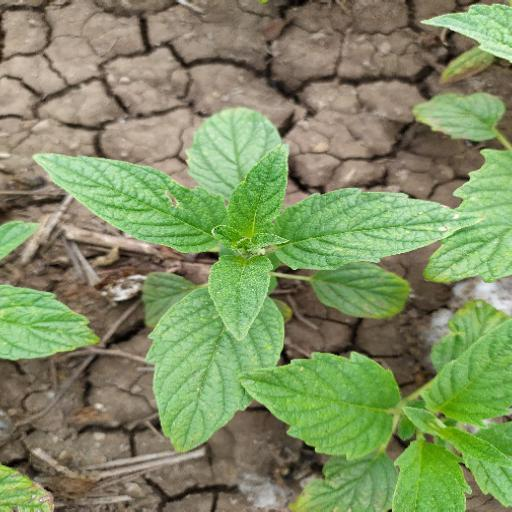crop: (35, 106, 456, 451), (240, 303, 509, 512)
